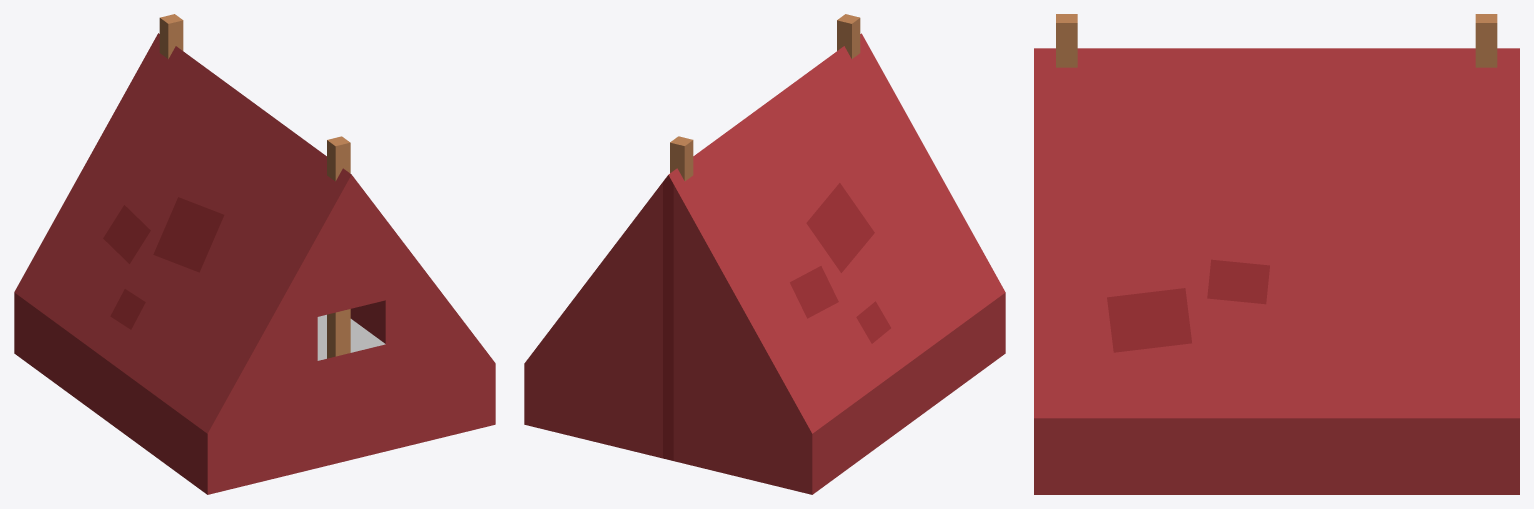
File: tent_smallClosed.obj
The picture shows the model from 3 angles, left to right: view 1: azimuth 30°, elevation 25°; view 2: azimuth 150°, elevation 25°; view 3: azimuth 270°, elevation 25°; orthographic projection. The views are drawn at different scales.
Parts seen in each view (by area): view 1: tent_smallClosed; view 2: tent_smallClosed; view 3: tent_smallClosed.
Part boxes in pixels (x1,y1,x2,y2): tent_smallClosed: [14, 14, 495, 494]; tent_smallClosed: [524, 14, 1005, 494]; tent_smallClosed: [1034, 14, 1519, 494].
Size of the model in its own units: 5.48 by 5.61 by 6.36.
